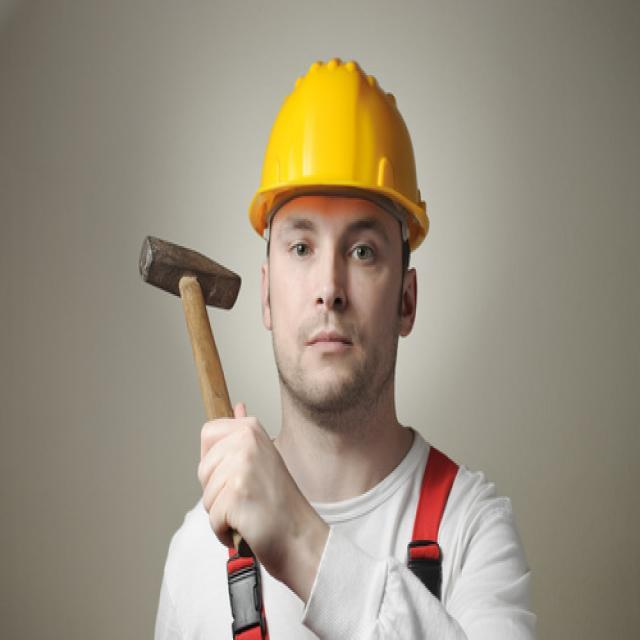hammer: (134, 227, 270, 640)
